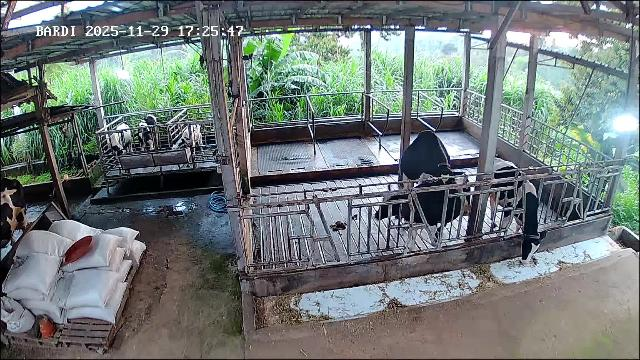mounting: (399, 131, 464, 210)
